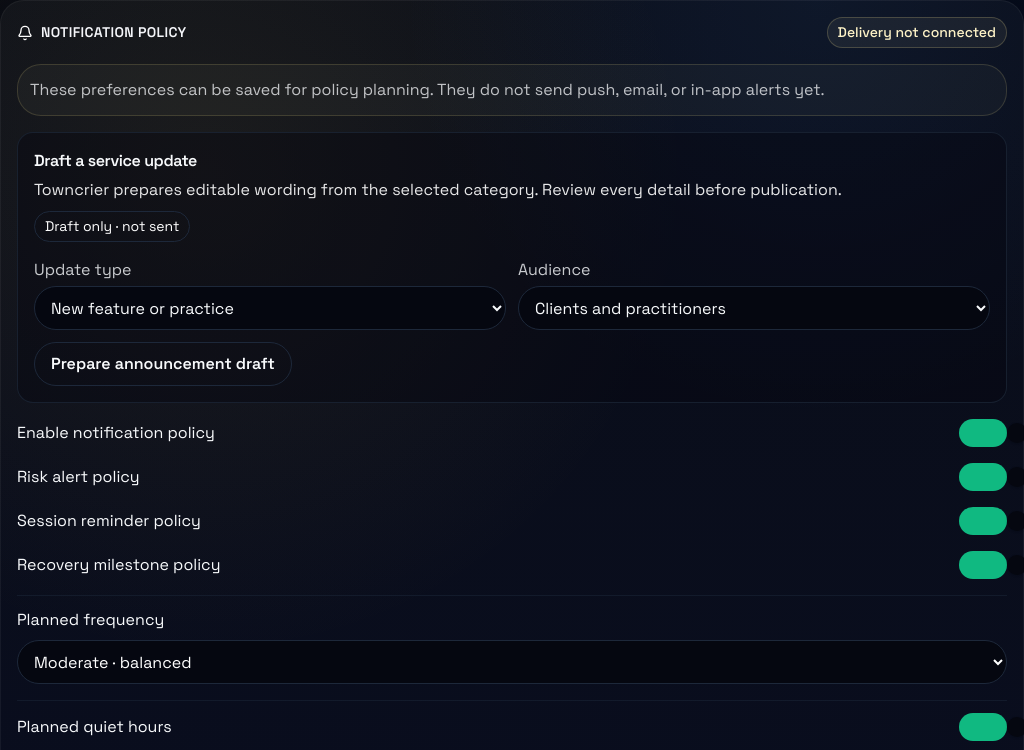
Test: AdminNotificationPolicy › shows a useful error when Towncrier cannot draft
Click the button "Prepare announcement draft".
click(163, 364)  # box [34,342,292,386]
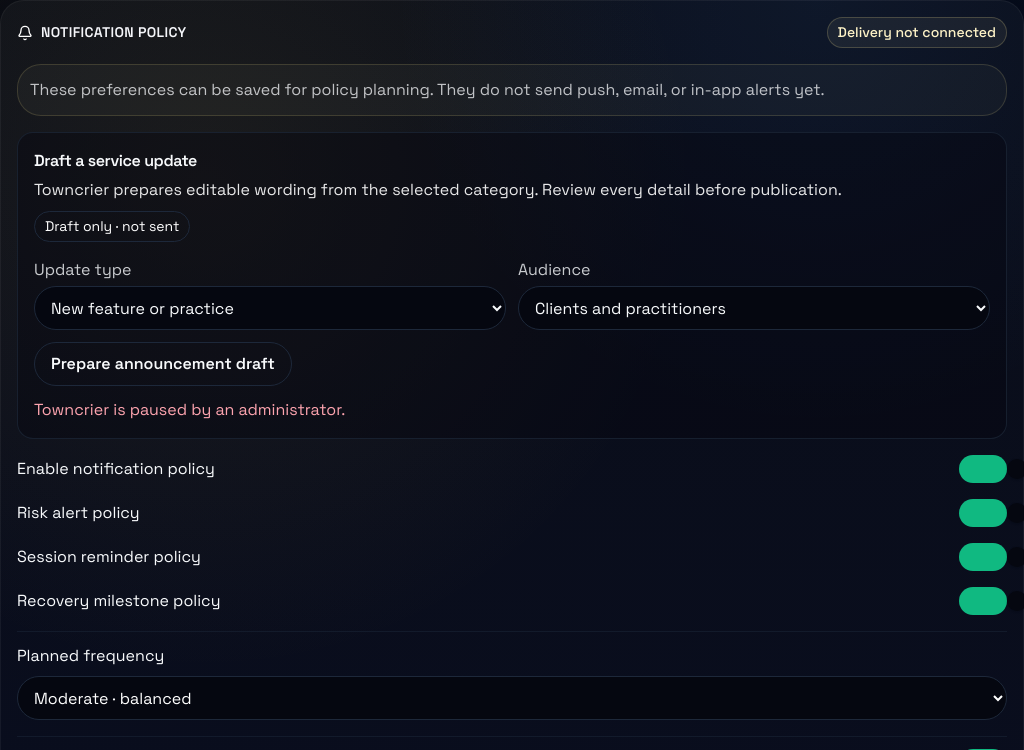
expect the message shows "Towncrier is paused": met, box [34,399,345,420]
